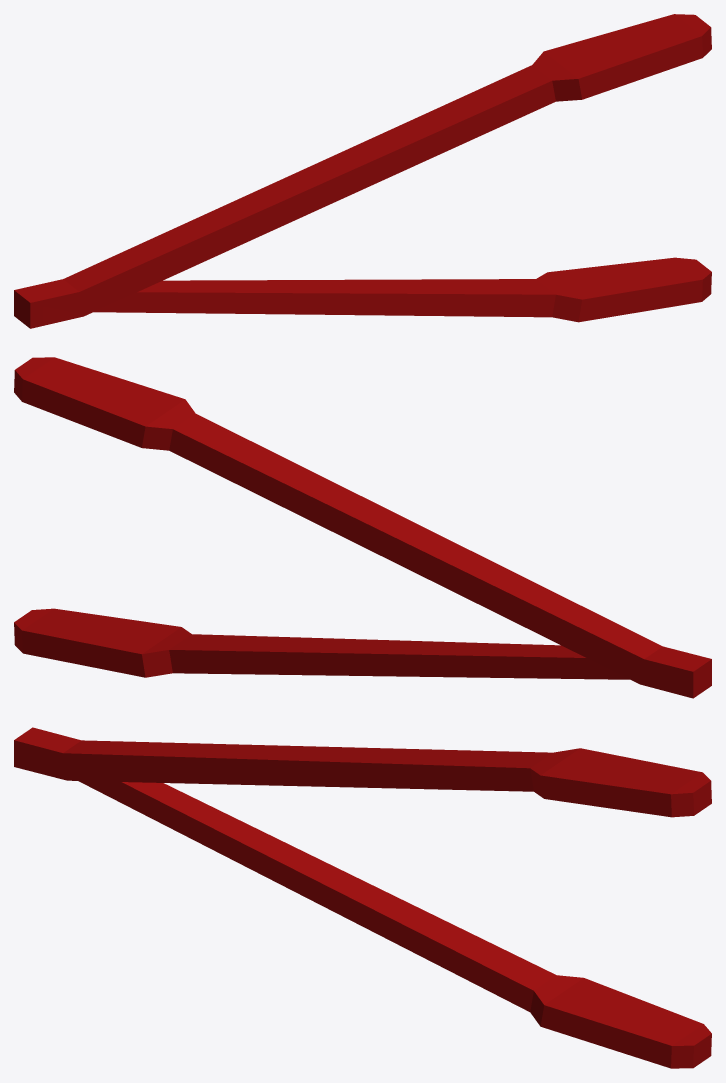
File: TongsVisual.obj
3 views of the same model, one above another, from view 1: azimuth 30°, elevation 25°; view 2: azimuth 150°, elevation 25°; view 3: azimuth 330°, elevation 25° (orthographic). The views are drawn at different scales.
Parts seen in each view (by area): view 1: tongs.001; view 2: tongs.001; view 3: tongs.001.
Boxes of the visible parts, <box> form: tongs.001: <box>14,14,711,328</box>; tongs.001: <box>14,357,711,698</box>; tongs.001: <box>14,727,711,1068</box>.
Size of the model in its own units: 0.4646 by 0.1766 by 0.0442.
